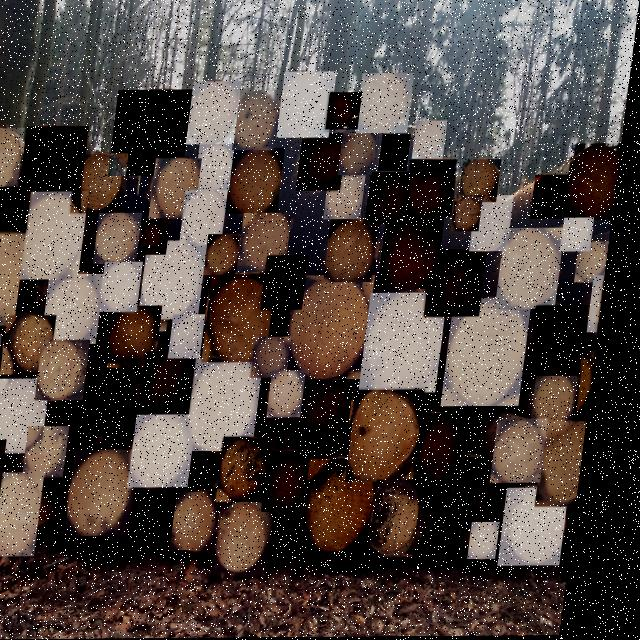wood-log: (452, 299, 541, 407), (293, 276, 382, 380), (369, 293, 456, 394), (195, 358, 273, 452), (313, 459, 390, 554), (358, 390, 436, 483), (113, 90, 195, 177), (19, 191, 94, 280), (211, 274, 284, 363), (79, 450, 151, 536), (512, 488, 582, 567), (503, 229, 571, 310), (146, 241, 214, 320), (140, 415, 208, 488), (0, 472, 57, 557), (385, 216, 450, 290), (0, 378, 60, 454), (24, 126, 93, 192), (50, 274, 112, 345), (229, 504, 288, 578), (569, 144, 625, 221), (548, 422, 598, 507), (537, 306, 596, 377), (432, 250, 494, 317), (382, 480, 435, 557), (425, 414, 480, 487), (280, 72, 339, 138), (93, 367, 150, 433), (232, 149, 289, 215), (465, 458, 521, 522), (503, 420, 559, 484), (331, 220, 387, 283), (359, 74, 417, 134), (189, 82, 244, 145), (150, 354, 206, 415), (116, 306, 171, 368), (76, 154, 133, 213), (10, 315, 65, 375), (45, 340, 99, 401), (229, 437, 279, 502), (244, 213, 298, 272), (0, 227, 32, 326), (154, 159, 206, 219), (315, 381, 365, 442), (410, 160, 463, 217), (184, 492, 235, 551), (236, 90, 284, 150), (301, 134, 351, 191), (275, 452, 322, 512), (186, 190, 233, 245), (269, 256, 315, 310), (100, 213, 148, 264), (34, 427, 81, 479), (370, 173, 417, 225), (476, 196, 519, 252), (541, 376, 588, 427), (107, 262, 150, 312), (329, 172, 371, 220), (199, 145, 239, 191), (277, 371, 316, 418), (0, 128, 28, 193), (464, 160, 506, 203), (0, 187, 36, 233), (260, 337, 300, 378), (342, 134, 381, 176), (177, 315, 214, 359), (536, 176, 573, 220), (211, 234, 247, 276), (582, 242, 616, 283), (0, 440, 18, 517), (329, 93, 364, 132), (416, 121, 451, 159), (482, 523, 514, 560), (567, 218, 600, 253), (457, 196, 489, 232), (383, 135, 414, 172), (146, 219, 176, 255), (587, 355, 604, 415), (596, 276, 612, 333), (0, 334, 11, 404)
